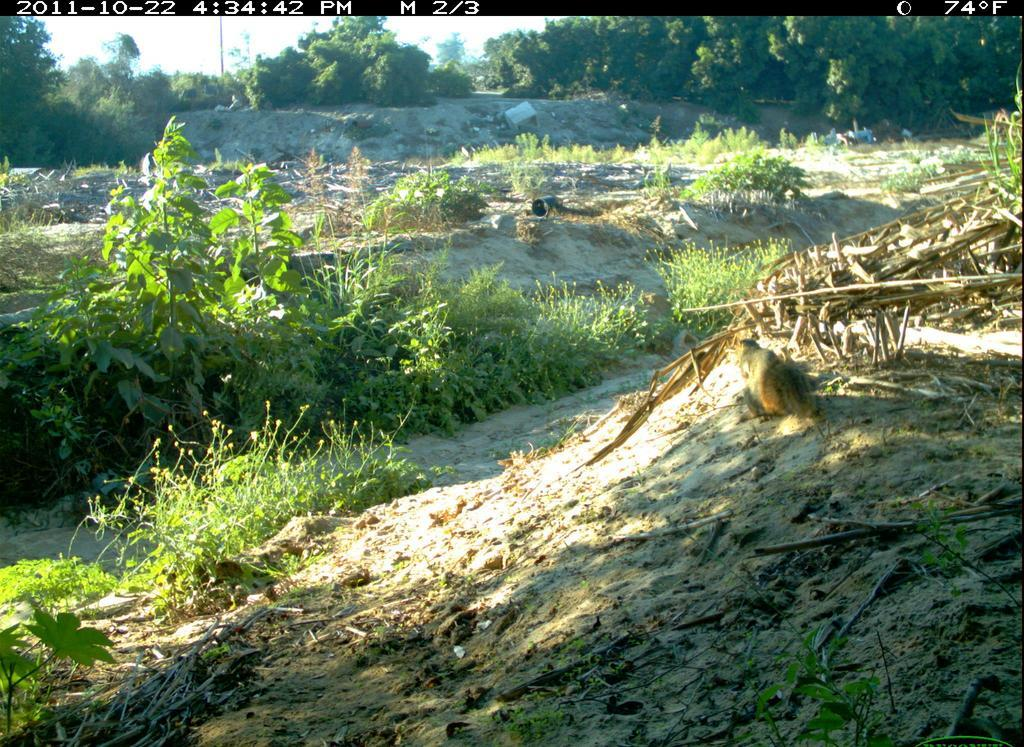squirrel: (711, 319, 850, 446)
